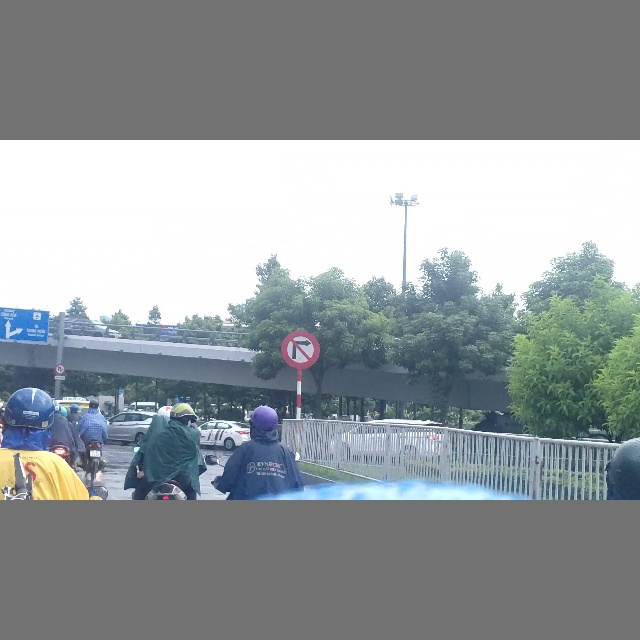P.123b: (281, 330, 321, 370)
